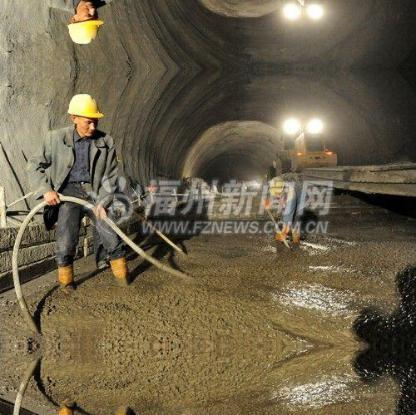helmet: (66, 90, 107, 122)
